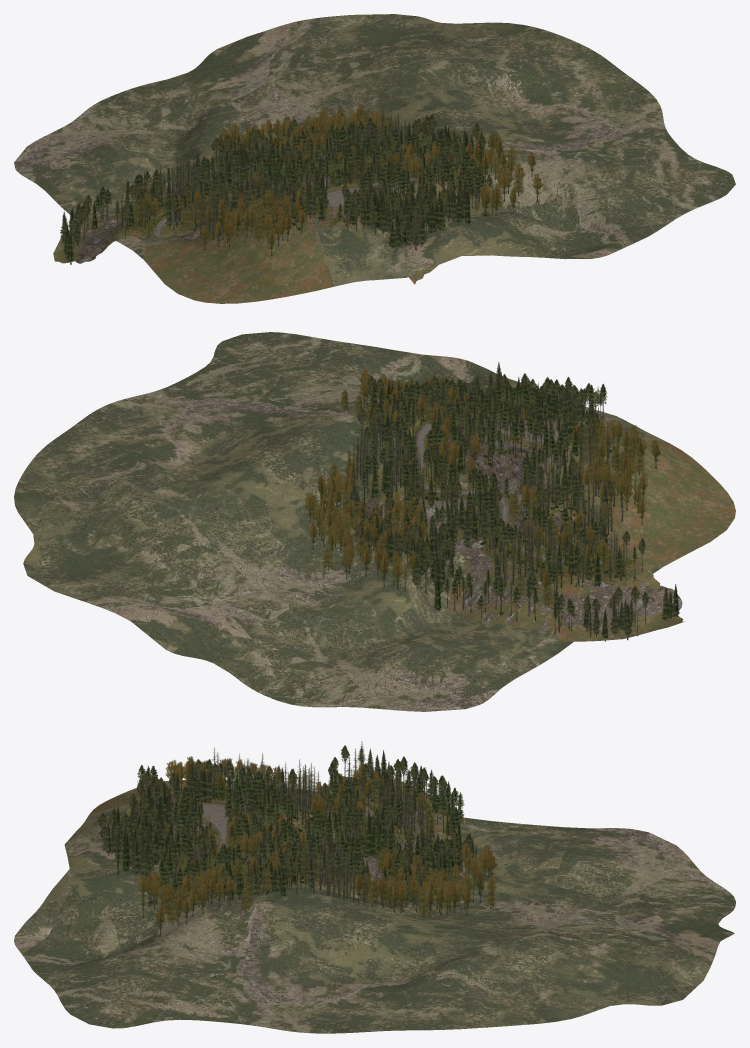
3 renders of one model, top to bottom at view 1: azimuth 30°, elevation 25°; view 2: azimuth 150°, elevation 25°; view 3: azimuth 270°, elevation 25°, orthographic. The views are drawn at different scales.
Visible parts, largest first — view 1: Background_Tree_Atlas.020_Terrain_Far_0, Background_Tree_Atlas.001_Background_Tree_Atlas_0, Background_Tree_Atlas.021_Aerial_Grass_0, Background_Tree_Atlas.006_Trunk_Oak_0, Background_Tree_Atlas.019_Sloped_Rock_0, Background_Tree_Atlas.024_Grass_Close_0, Background_Tree_Atlas.011_Grass_Vegetation_Green_0, Background_Tree_Atlas.004_Trunk_Birch_0; view 2: Background_Tree_Atlas.020_Terrain_Far_0, Background_Tree_Atlas.001_Background_Tree_Atlas_0, Background_Tree_Atlas.021_Aerial_Grass_0, Background_Tree_Atlas.006_Trunk_Oak_0, Background_Tree_Atlas.019_Sloped_Rock_0, Background_Tree_Atlas.022_Tall_Cliff_0, Background_Tree_Atlas.024_Grass_Close_0, Background_Tree_Atlas.011_Grass_Vegetation_Green_0, Background_Tree_Atlas.013_Rock_Decal_0, Background_Tree_Atlas.025_Dirt_Road_0, Background_Tree_Atlas.004_Trunk_Birch_0; view 3: Background_Tree_Atlas.020_Terrain_Far_0, Background_Tree_Atlas.001_Background_Tree_Atlas_0, Background_Tree_Atlas.006_Trunk_Oak_0, Background_Tree_Atlas.021_Aerial_Grass_0, Background_Tree_Atlas.019_Sloped_Rock_0, Background_Tree_Atlas.004_Trunk_Birch_0, Background_Tree_Atlas.024_Grass_Close_0.
Boxes of the visible parts, x1=… form: Background_Tree_Atlas.020_Terrain_Far_0: x1=14, y1=14, x2=735, y2=286; Background_Tree_Atlas.001_Background_Tree_Atlas_0: x1=60, y1=104, x2=542, y2=262; Background_Tree_Atlas.021_Aerial_Grass_0: x1=53, y1=157, x2=504, y2=303; Background_Tree_Atlas.006_Trunk_Oak_0: x1=66, y1=111, x2=518, y2=264; Background_Tree_Atlas.019_Sloped_Rock_0: x1=75, y1=155, x2=418, y2=263; Background_Tree_Atlas.024_Grass_Close_0: x1=145, y1=164, x2=439, y2=236; Background_Tree_Atlas.011_Grass_Vegetation_Green_0: x1=114, y1=173, x2=440, y2=238; Background_Tree_Atlas.004_Trunk_Birch_0: x1=145, y1=132, x2=537, y2=256; Background_Tree_Atlas.020_Terrain_Far_0: x1=14, y1=332, x2=667, y2=711; Background_Tree_Atlas.001_Background_Tree_Atlas_0: x1=304, y1=362, x2=679, y2=638; Background_Tree_Atlas.021_Aerial_Grass_0: x1=361, y1=408, x2=735, y2=641; Background_Tree_Atlas.006_Trunk_Oak_0: x1=313, y1=380, x2=675, y2=641; Background_Tree_Atlas.019_Sloped_Rock_0: x1=360, y1=419, x2=682, y2=634; Background_Tree_Atlas.022_Tall_Cliff_0: x1=465, y1=450, x2=616, y2=552; Background_Tree_Atlas.024_Grass_Close_0: x1=398, y1=418, x2=632, y2=567; Background_Tree_Atlas.011_Grass_Vegetation_Green_0: x1=399, y1=413, x2=641, y2=601; Background_Tree_Atlas.013_Rock_Decal_0: x1=414, y1=421, x2=625, y2=566; Background_Tree_Atlas.025_Dirt_Road_0: x1=417, y1=421, x2=629, y2=564; Background_Tree_Atlas.004_Trunk_Birch_0: x1=309, y1=396, x2=656, y2=598; Background_Tree_Atlas.020_Terrain_Far_0: x1=14, y1=790, x2=735, y2=1033; Background_Tree_Atlas.001_Background_Tree_Atlas_0: x1=97, y1=741, x2=497, y2=932; Background_Tree_Atlas.006_Trunk_Oak_0: x1=102, y1=746, x2=491, y2=924; Background_Tree_Atlas.021_Aerial_Grass_0: x1=89, y1=776, x2=469, y2=917; Background_Tree_Atlas.019_Sloped_Rock_0: x1=171, y1=777, x2=464, y2=901; Background_Tree_Atlas.004_Trunk_Birch_0: x1=142, y1=774, x2=491, y2=936; Background_Tree_Atlas.024_Grass_Close_0: x1=161, y1=788, x2=381, y2=879.
Bounding box in the file's own units: 551 × 111 × 548.
26 materials, 26 textured.
